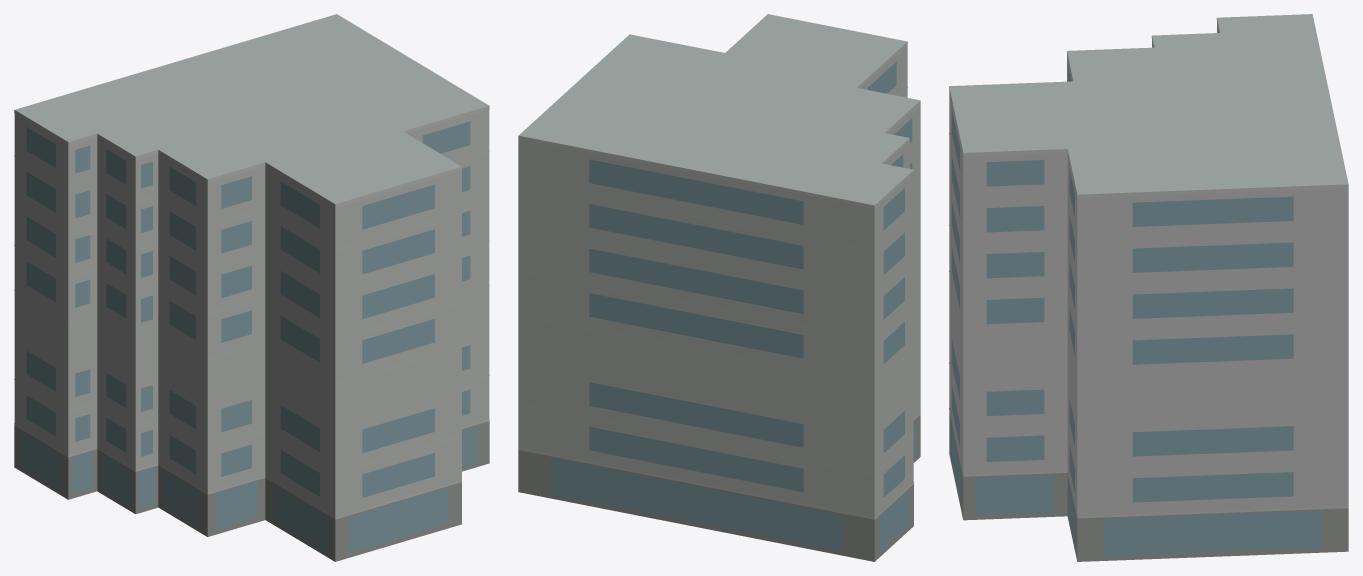
Rendered from residential-5bd0418e-02d1-4150-ba41-9d160e5aa1de.glb.
3 renders of one model, left to right at view 1: azimuth 30°, elevation 25°; view 2: azimuth 150°, elevation 25°; view 3: azimuth 270°, elevation 25°, orthographic. The views are drawn at different scales.
Visible parts, largest first — view 1: residential-5bd0418e-02d1-4150-ba41-9d160e5aa1de.tmp; view 2: residential-5bd0418e-02d1-4150-ba41-9d160e5aa1de.tmp; view 3: residential-5bd0418e-02d1-4150-ba41-9d160e5aa1de.tmp.
Part boxes in pixels (x1,y1,x2,y2): residential-5bd0418e-02d1-4150-ba41-9d160e5aa1de.tmp: (14, 14, 489, 561); residential-5bd0418e-02d1-4150-ba41-9d160e5aa1de.tmp: (518, 14, 920, 561); residential-5bd0418e-02d1-4150-ba41-9d160e5aa1de.tmp: (949, 14, 1348, 561).
Size of the model in its own units: 25.75 by 24.4 by 24.07.
